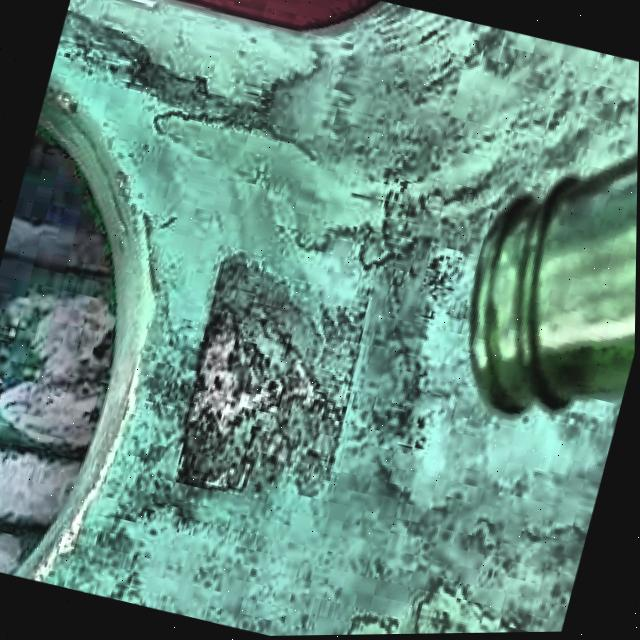glass: (473, 159, 638, 415)
